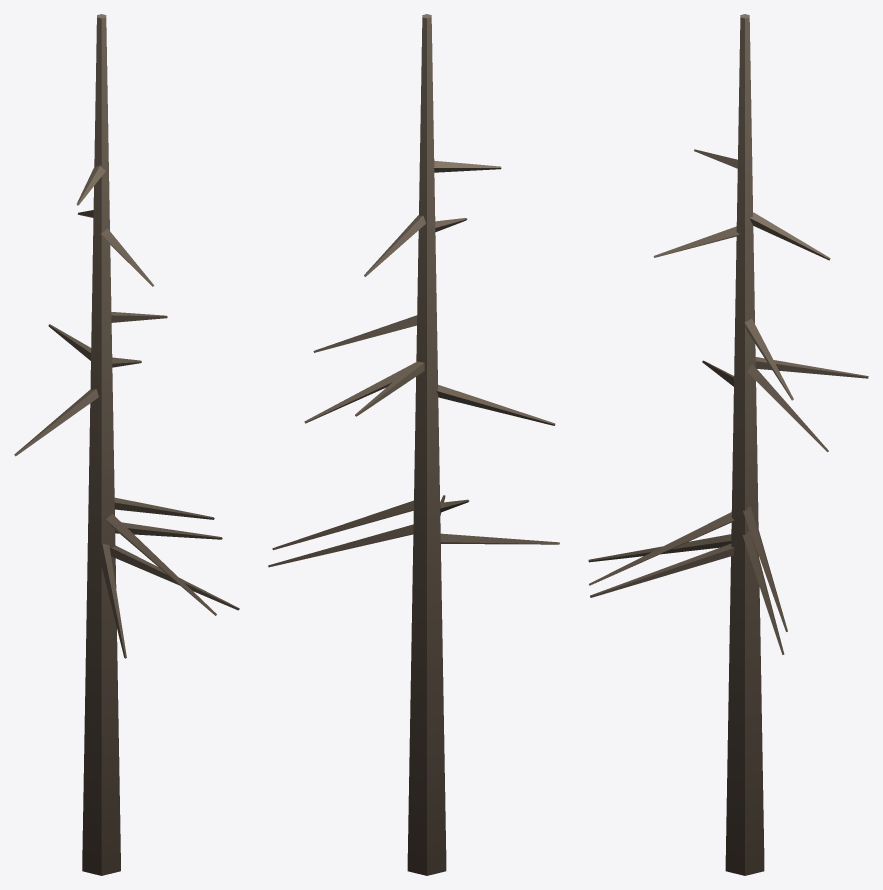
File: DeadPine.fbx
3 views of the same model, side by side, from view 1: azimuth 30°, elevation 25°; view 2: azimuth 150°, elevation 25°; view 3: azimuth 270°, elevation 25° (orthographic).
Parts seen in each view (by area): view 1: DeadPine_LOD0; view 2: DeadPine_LOD0; view 3: DeadPine_LOD0.
Part boxes in pixels (x1,y1,x2,y2): DeadPine_LOD0: [14, 14, 239, 875]; DeadPine_LOD0: [268, 14, 559, 875]; DeadPine_LOD0: [588, 14, 868, 875].
Size of what is drawn, in the model's own units: 2.59 by 8.5 by 2.54.
1 material, 1 textured.
